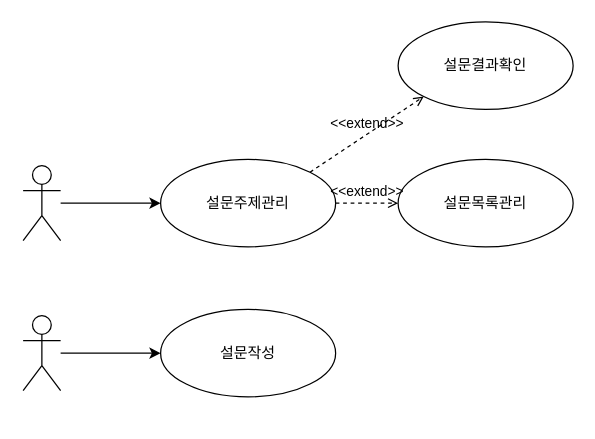
The diagram is 595 pixels wide and 439 high, and some of its shapes have lost their labels. Each missing label, with the box of its shape:
고객: (22, 314, 61, 391)
관리자: (22, 164, 61, 241)
